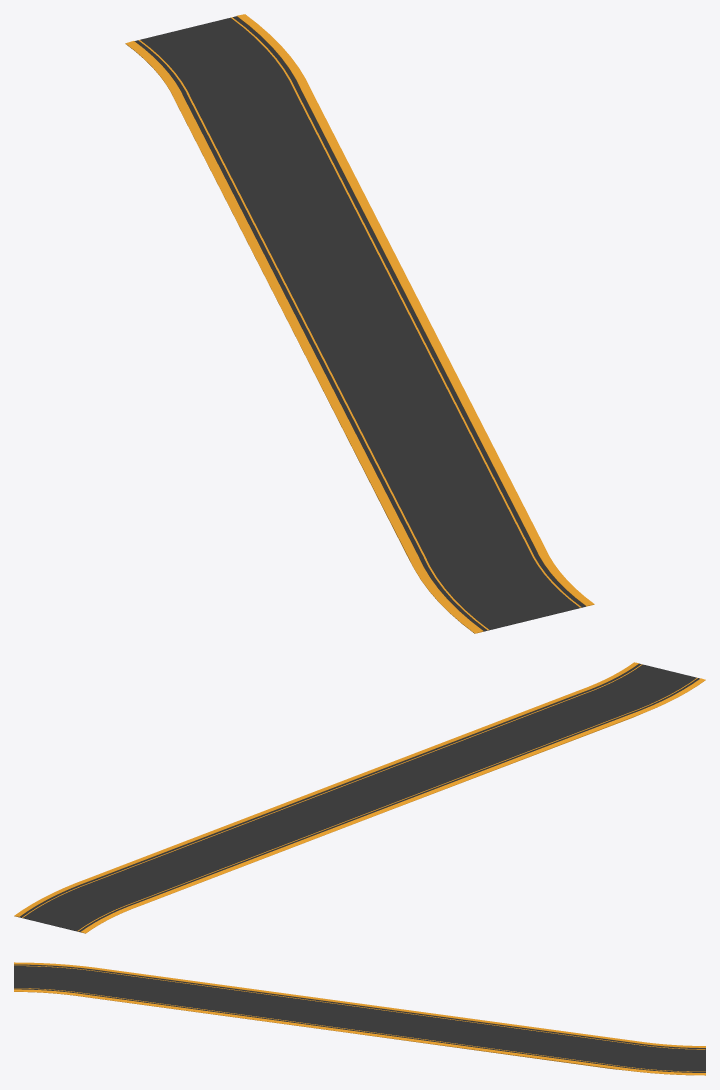
File: SM_Racetrack_RunOff_Shift_60x140m.fbx
The picture shows the model from 3 angles, top to bottom: view 1: azimuth 30°, elevation 25°; view 2: azimuth 150°, elevation 25°; view 3: azimuth 270°, elevation 25°; orthographic projection. The views are drawn at different scales.
Parts seen in each view (by area): view 1: SM_Racetrack_RunOff_Shift_60x140m; view 2: SM_Racetrack_RunOff_Shift_60x140m; view 3: SM_Racetrack_RunOff_Shift_60x140m.
Part boxes in pixels (x1,y1,x2,y2): SM_Racetrack_RunOff_Shift_60x140m: [125, 14, 594, 633]; SM_Racetrack_RunOff_Shift_60x140m: [14, 662, 705, 933]; SM_Racetrack_RunOff_Shift_60x140m: [14, 962, 705, 1075].
Size of the model in its own units: 54 by 0.2 by 140.
